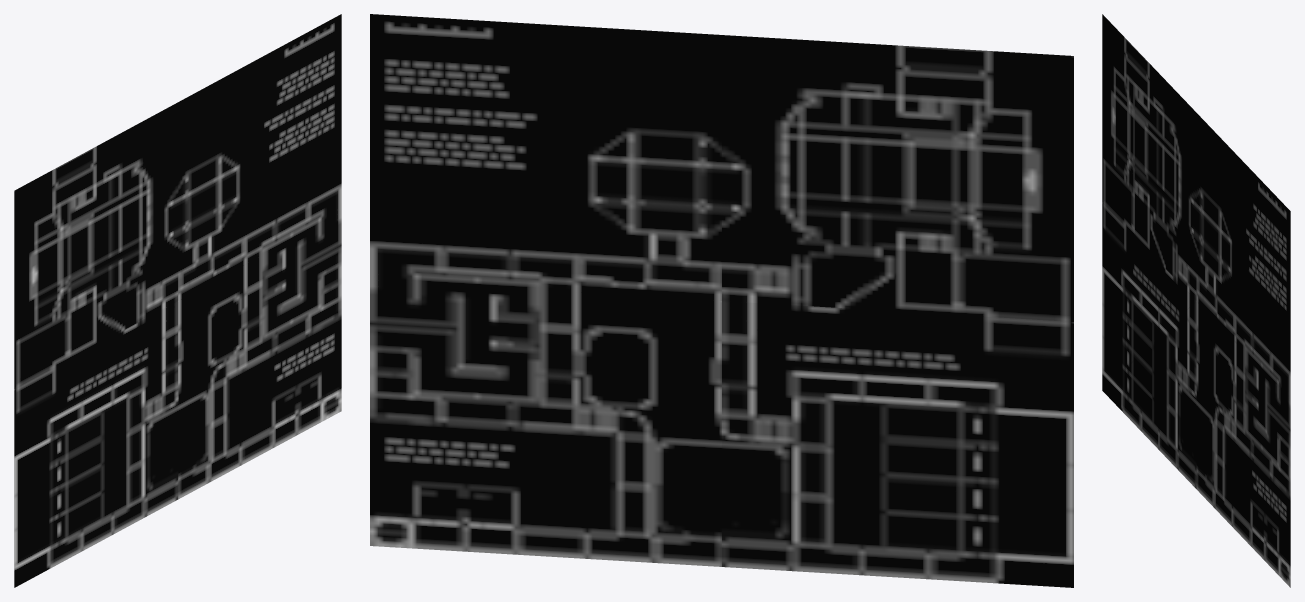
Rendered from primary_028.glb.
The picture shows the model from 3 angles, left to right: view 1: azimuth 30°, elevation 25°; view 2: azimuth 150°, elevation 25°; view 3: azimuth 270°, elevation 25°; orthographic projection. The views are drawn at different scales.
Parts seen in each view (by area): view 1: Object; view 2: Object; view 3: Object.
Boxes of the visible parts, x1,y1,x2,y2 form: Object: (14, 14, 341, 587); Object: (370, 14, 1073, 587); Object: (1102, 14, 1290, 587).
Size of the model in its own units: 0.9525 by 0.8483 by 0.384.
Materials: 4 (4 with a texture image).
